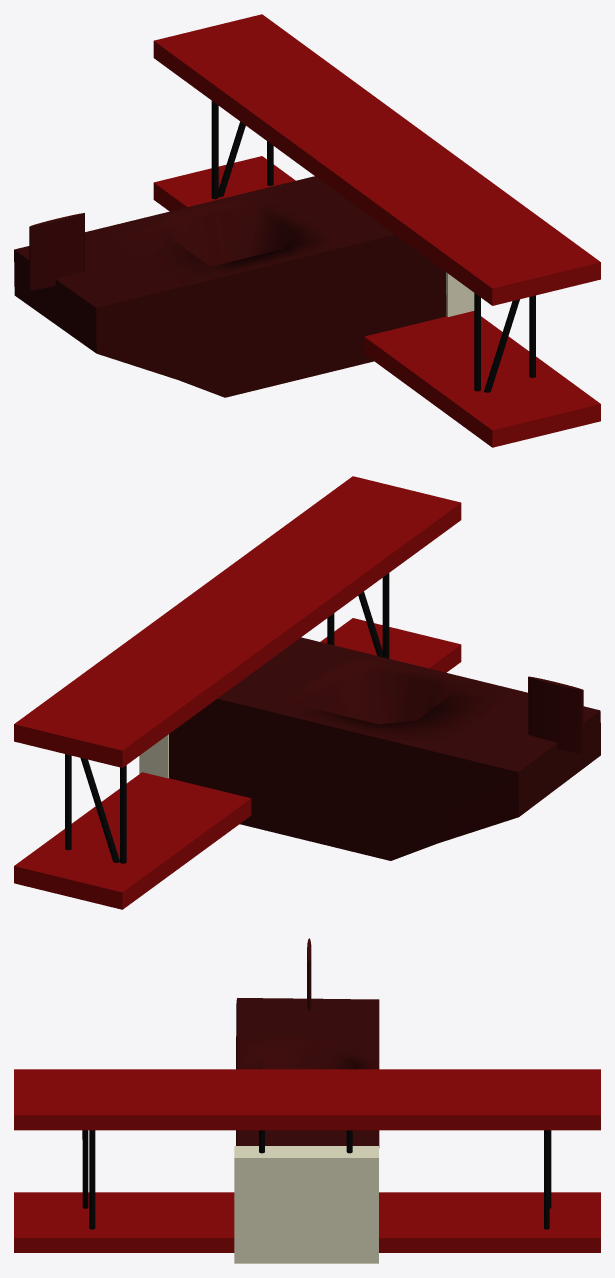
File: planev2.obj
3 views of the same model, one above another, from view 1: azimuth 30°, elevation 25°; view 2: azimuth 150°, elevation 25°; view 3: azimuth 270°, elevation 25° (orthographic). The views are drawn at different scales.
Visible parts, largest first — view 1: polySurface23; view 2: polySurface23; view 3: polySurface23.
Part boxes in pixels (box(x1,y1,x2,y2)): polySurface23: box(14, 14, 600, 447); polySurface23: box(14, 476, 600, 909); polySurface23: box(14, 938, 600, 1263).
Bounding box in the file's own units: 6.91 × 2.93 × 10.04.
